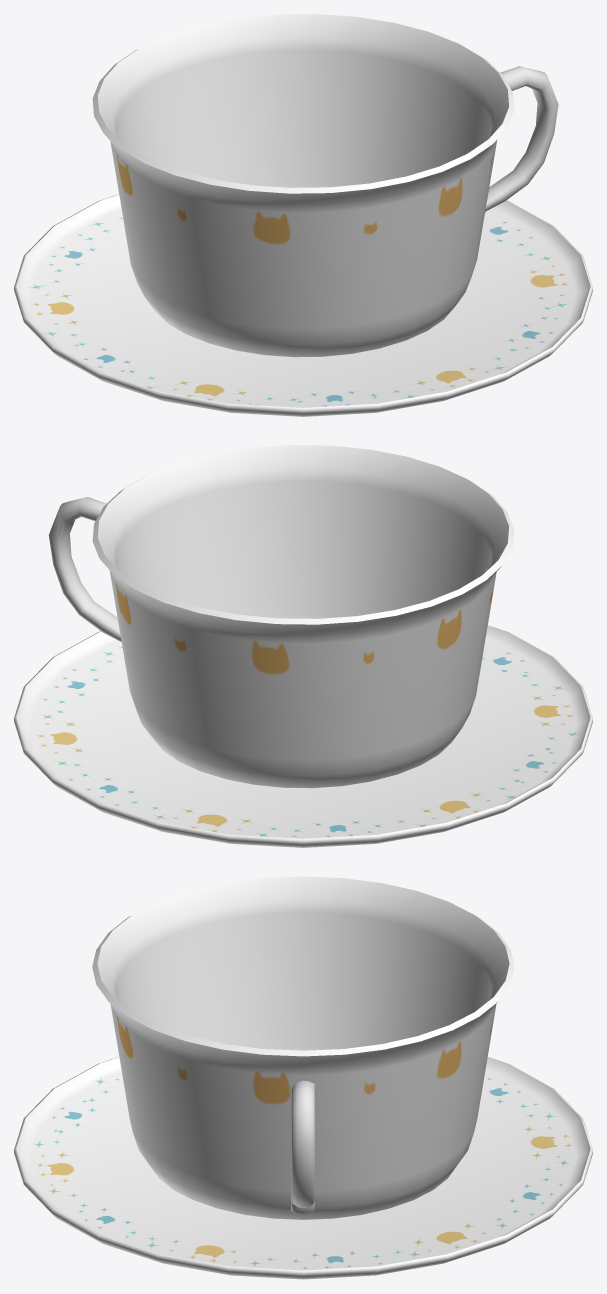
The model's file is coffee-cup.glb.
3 views of the same model, one above another, from view 1: azimuth 30°, elevation 25°; view 2: azimuth 150°, elevation 25°; view 3: azimuth 270°, elevation 25° (orthographic).
Parts seen in each view (by area): view 1: コーヒーカップ, 皿; view 2: コーヒーカップ, 皿; view 3: コーヒーカップ, 皿.
Part boxes in pixels (x1,y1,x2,y2): コーヒーカップ: (92, 14, 558, 357); 皿: (14, 194, 592, 416); コーヒーカップ: (48, 445, 514, 788); 皿: (14, 625, 592, 847); コーヒーカップ: (92, 876, 514, 1219); 皿: (14, 1057, 592, 1279).
Bounding box in the file's own units: 0.1341 × 0.0509 × 0.1338.
2 materials, 2 textured.
